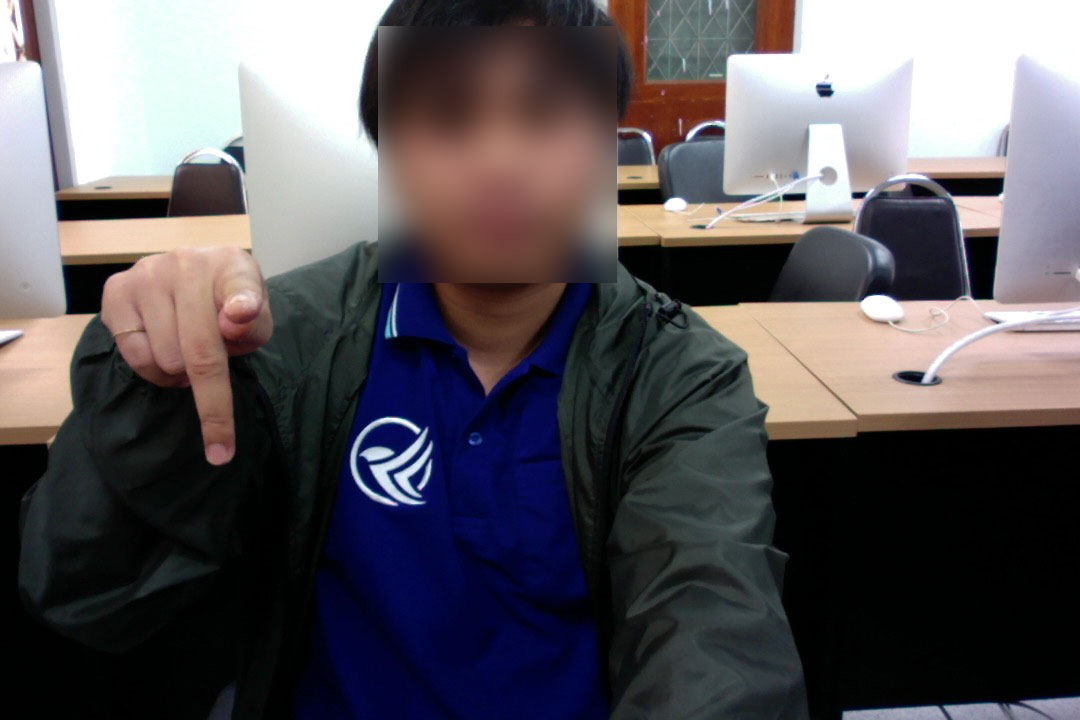por: (93, 239, 279, 475)
